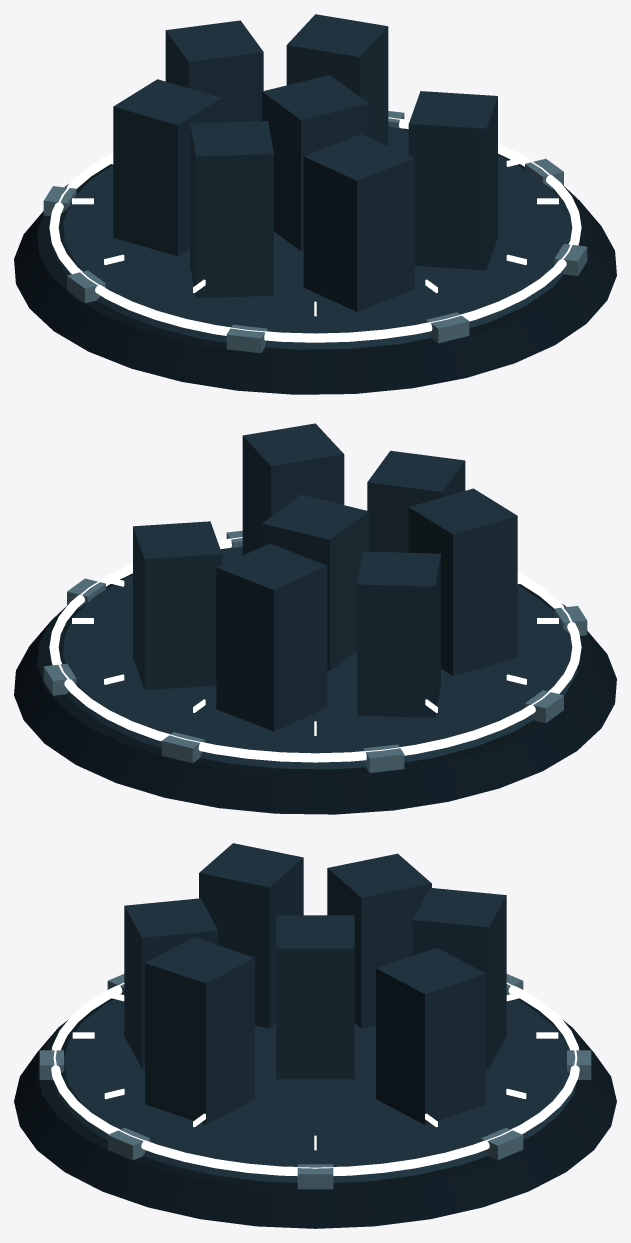
File: metalStorage.glb
The picture shows the model from 3 angles, top to bottom: view 1: azimuth 30°, elevation 25°; view 2: azimuth 150°, elevation 25°; view 3: azimuth 270°, elevation 25°; orthographic projection.
Visible parts, largest first — view 1: metal-vault (×7), upper-deck, armored-foundation, perimeter-light, buttress-2, buttress-3, buttress-4, buttress-1, buttress-5, buttress-0; view 2: metal-vault (×7), armored-foundation, upper-deck, perimeter-light, buttress-5, buttress-6, buttress-4, buttress-7, buttress-3, buttress-0; view 3: metal-vault (×7), upper-deck, armored-foundation, perimeter-light, buttress-0, buttress-1, buttress-7, buttress-2, buttress-6.
Part boxes in pixels (left/top/right/bottom): metal-vault (×7): left=113, top=14, right=497, bottom=311; upper-deck: left=53, top=126, right=579, bottom=349; armored-foundation: left=14, top=128, right=616, bottom=394; perimeter-light: left=49, top=117, right=581, bottom=342; buttress-2: left=426, top=312, right=469, bottom=343; buttress-3: left=226, top=324, right=267, bottom=353; buttress-4: left=67, top=270, right=105, bottom=303; buttress-1: left=554, top=244, right=587, bottom=275; buttress-5: left=43, top=186, right=76, bottom=216; buttress-0: left=525, top=158, right=563, bottom=189; metal-vault (×7): left=133, top=423, right=517, bottom=731; armored-foundation: left=14, top=548, right=616, bottom=814; upper-deck: left=51, top=546, right=577, bottom=769; perimeter-light: left=49, top=537, right=581, bottom=762; buttress-5: left=363, top=744, right=404, bottom=772; buttress-6: left=161, top=732, right=204, bottom=763; buttress-4: left=525, top=690, right=563, bottom=722; buttress-7: left=43, top=663, right=76, bottom=695; buttress-3: left=554, top=606, right=587, bottom=635; buttress-0: left=67, top=578, right=105, bottom=609; metal-vault (×7): left=124, top=843, right=506, bottom=1124; upper-deck: left=53, top=994, right=577, bottom=1182; armored-foundation: left=14, top=998, right=616, bottom=1228; perimeter-light: left=51, top=982, right=579, bottom=1176; buttress-0: left=297, top=1164, right=333, bottom=1189; buttress-1: left=107, top=1127, right=150, bottom=1160; buttress-7: left=480, top=1127, right=523, bottom=1160; buttress-2: left=39, top=1050, right=63, bottom=1079; buttress-6: left=567, top=1050, right=591, bottom=1079.
Bounding box in the file's own units: 10.4 × 3.43 × 10.4.
